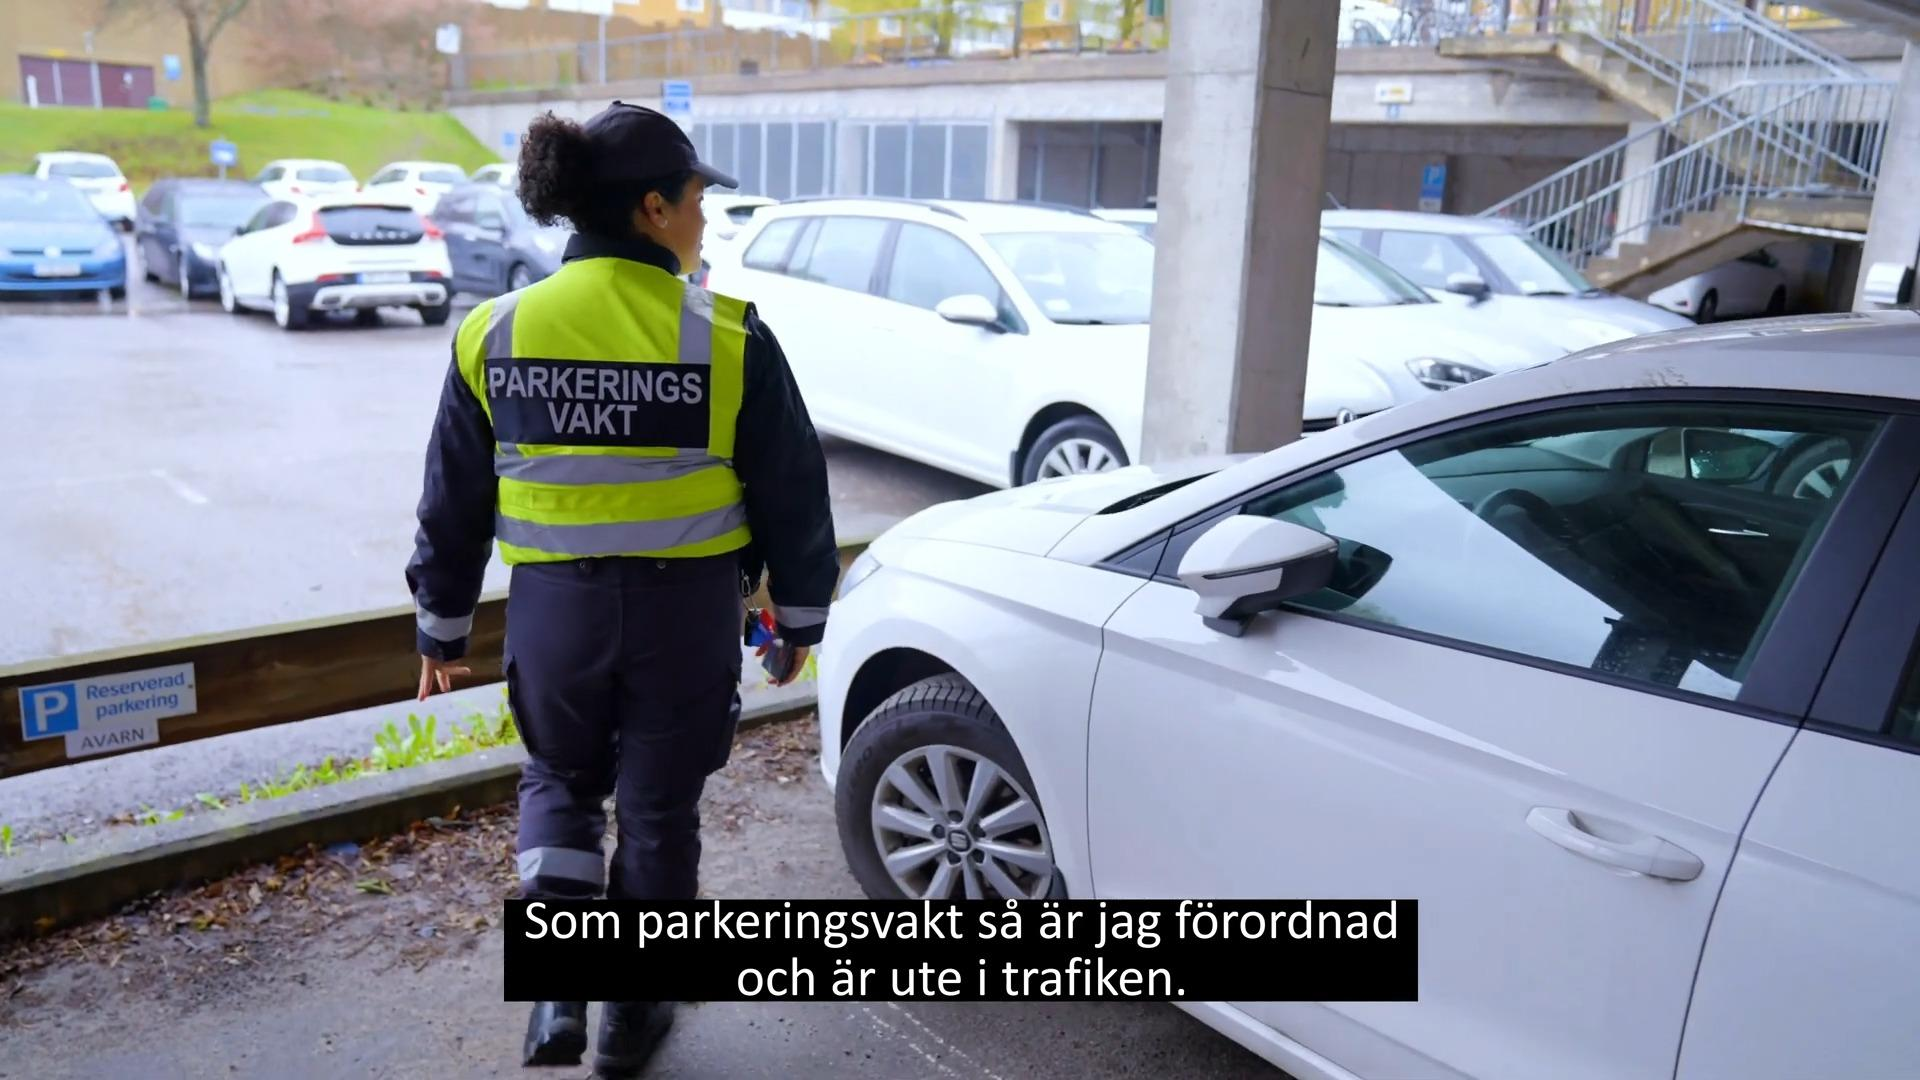parking-attendant: (405, 102, 839, 901)
